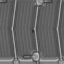dust: (31, 29, 34, 32)
